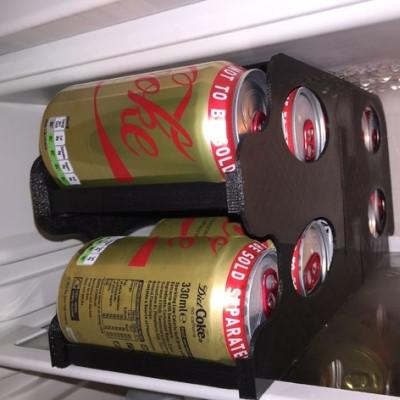beer: (45, 80, 391, 361)
